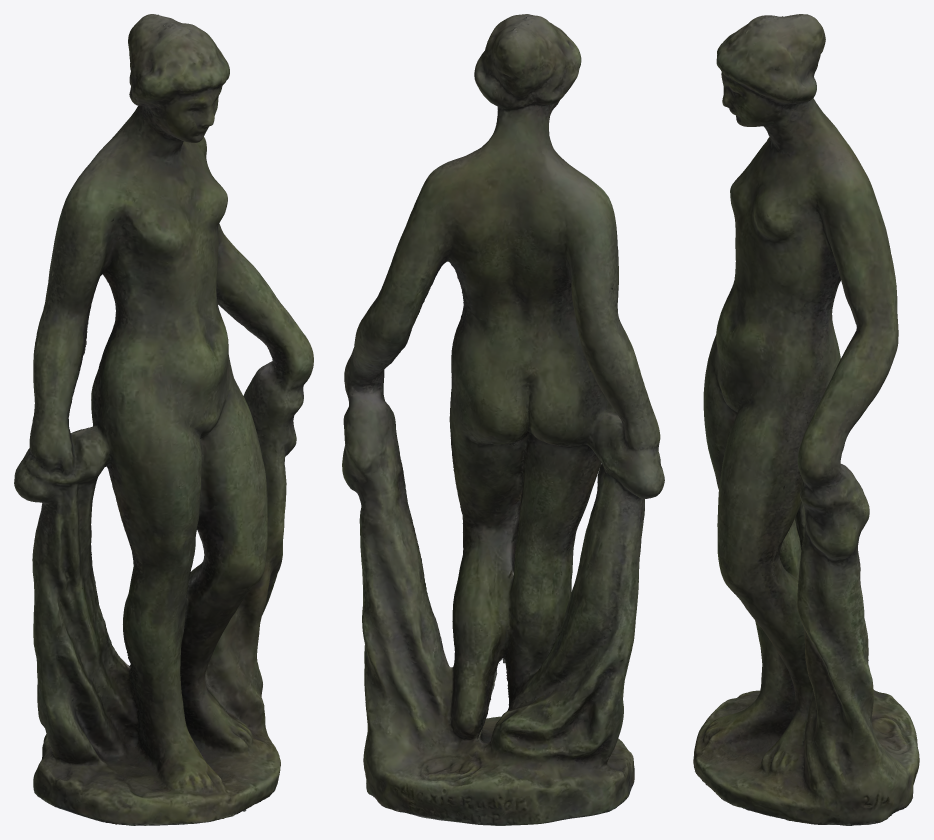
File: preview-d81ccb0b07f7.glb
The picture shows the model from 3 angles, left to right: view 1: azimuth 30°, elevation 25°; view 2: azimuth 150°, elevation 25°; view 3: azimuth 270°, elevation 25°; orthographic projection. The views are drawn at different scales.
Parts seen in each view (by area): view 1: Object_3; view 2: Object_3; view 3: Object_3.
Boxes of the visible parts, x1=… form: Object_3: x1=14, y1=14, x2=313, y2=825; Object_3: x1=342, y1=14, x2=664, y2=825; Object_3: x1=693, y1=14, x2=919, y2=825.
Size of the model in its own units: 2.87 by 6.94 by 1.88.
1 material, 1 textured.
